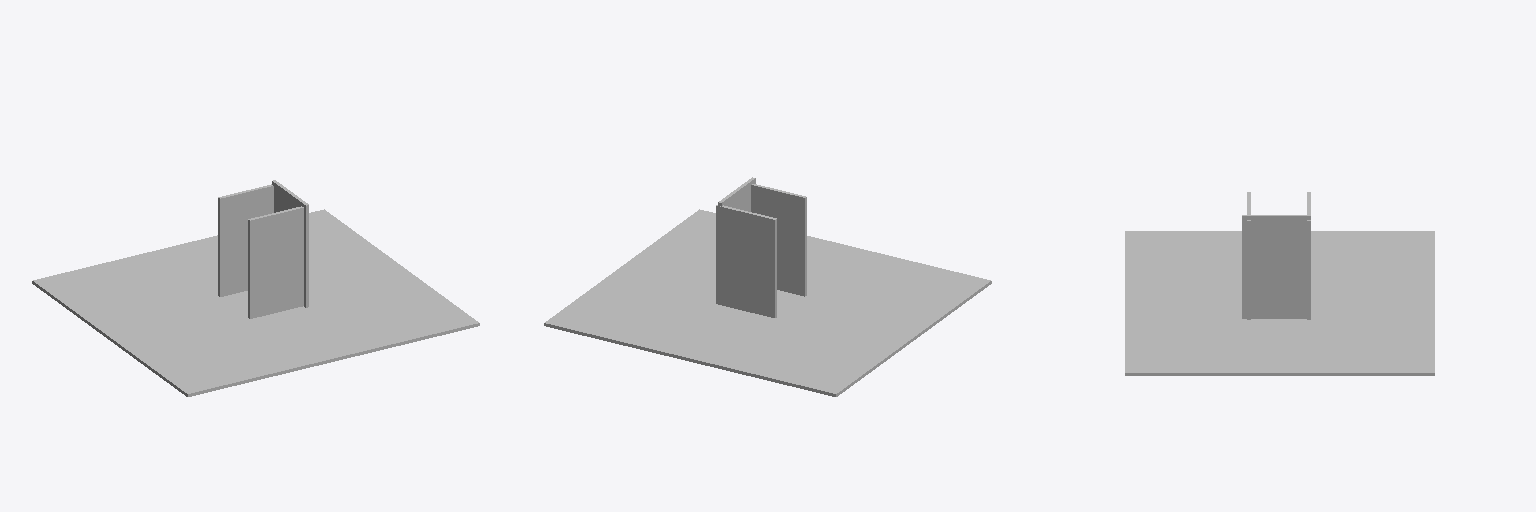
Rendered from House.obj.
The picture shows the model from 3 angles: view 1: azimuth 30°, elevation 25°; view 2: azimuth 150°, elevation 25°; view 3: azimuth 270°, elevation 25°; orthographic projection.
Parts seen in each view (by area): view 1: Cube.003; view 2: Cube.003; view 3: Cube.003.
Part boxes in pixels (x1,y1,x2,y2): Cube.003: (32,180,479,396); Cube.003: (544,177,991,396); Cube.003: (1125,192,1434,375).
Size of the model in its own units: 62.93 by 23.25 by 57.94.